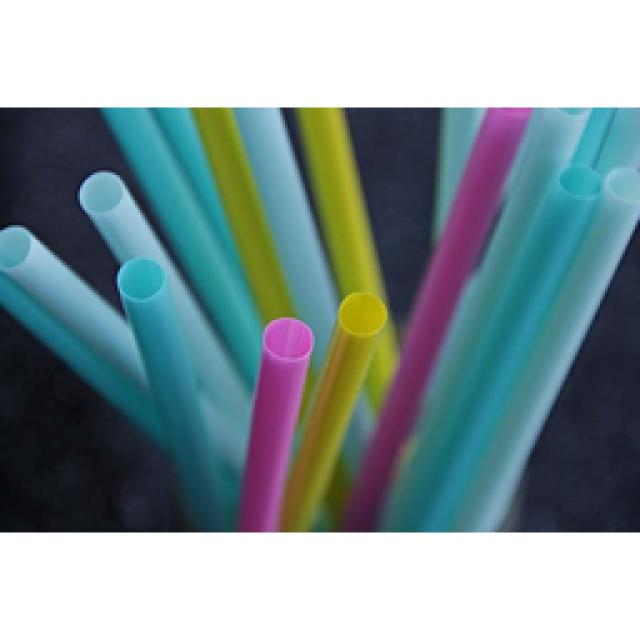plastic: (0, 105, 638, 527), (235, 312, 313, 530)
